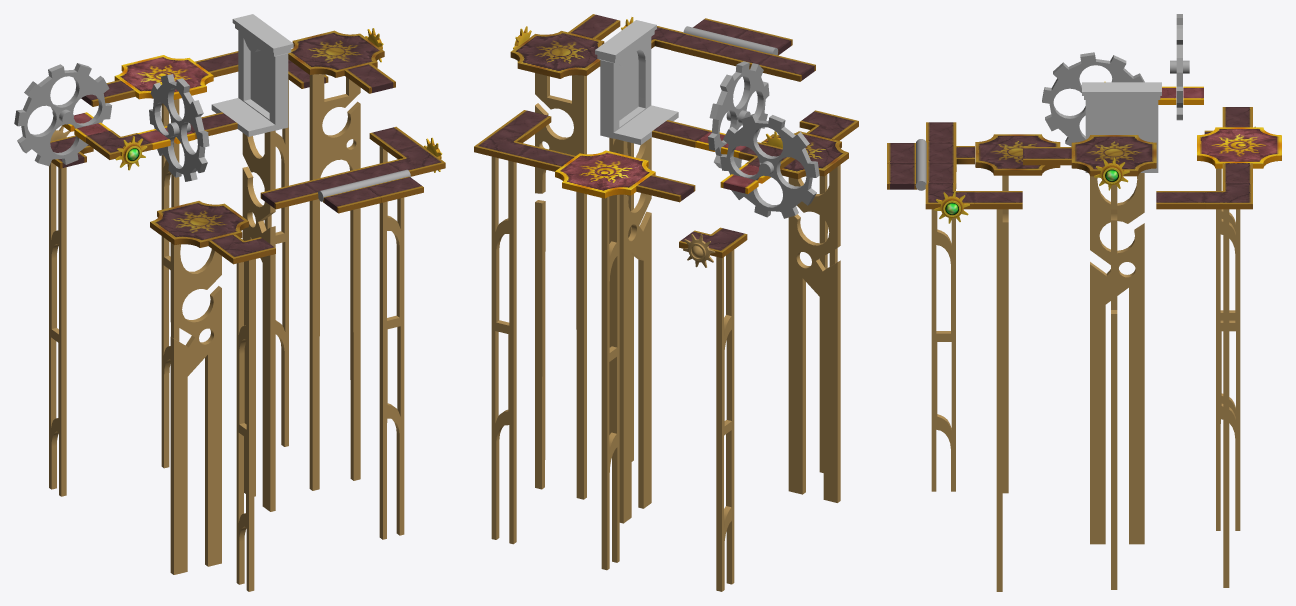
The model's file is Level_3.fbx.
3 renders of one model, left to right at view 1: azimuth 30°, elevation 25°; view 2: azimuth 150°, elevation 25°; view 3: azimuth 270°, elevation 25°, orthographic. The views are drawn at different scales.
Parts seen in each view (by area): view 1: Stand_03, Stand_01, pCylinder15 (×2), Stand_02, pCube40, pCube17, pCube30, polySurface2, pCube31, pCube46, pCube25, pCube39 (+17 smaller); view 2: Stand_03, Stand_01, Stand_02, pCylinder15 (×2), pCube39, pCube31, pCube30, polySurface2, pCube26, pCube25, pCube46, pCube40 (+19 smaller); view 3: Stand_02, polySurface2, pCube31, pCube17, pCylinder15 (×2), pCube26, Stand_01, pCube25, pCube40, pCube39, pCube46, Stand_03 (+14 smaller).
Boxes of the visible parts, bbox=[...] form: Stand_03: bbox=[170, 243, 221, 574]; Stand_01: bbox=[309, 74, 360, 490]; pCylinder15 (×2): bbox=[14, 63, 209, 181]; Stand_02: bbox=[242, 130, 275, 511]; pCube40: bbox=[379, 145, 404, 539]; pCube17: bbox=[236, 259, 254, 591]; pCube30: bbox=[49, 162, 66, 496]; polySurface2: bbox=[232, 14, 293, 130]; pCube31: bbox=[161, 99, 179, 468]; pCube46: bbox=[150, 201, 248, 247]; pCube25: bbox=[288, 30, 384, 77]; pCube39: bbox=[264, 79, 288, 446]; Stand_03: bbox=[788, 165, 840, 502]; Stand_01: bbox=[535, 73, 586, 499]; Stand_02: bbox=[618, 137, 651, 523]; pCylinder15 (×2): bbox=[708, 61, 819, 218]; pCube39: bbox=[491, 156, 516, 544]; pCube31: bbox=[601, 194, 619, 570]; pCube30: bbox=[716, 250, 734, 591]; polySurface2: bbox=[595, 20, 656, 138]; pCube26: bbox=[555, 150, 655, 198]; pCube25: bbox=[510, 31, 604, 78]; pCube46: bbox=[761, 131, 848, 179]; pCube40: bbox=[609, 138, 633, 461]; Stand_02: bbox=[1090, 173, 1144, 544]; polySurface2: bbox=[1082, 82, 1161, 172]; pCube31: bbox=[1216, 168, 1240, 530]; pCube17: bbox=[931, 209, 955, 491]; pCylinder15 (×2): bbox=[1042, 14, 1189, 146]; pCube26: bbox=[1197, 127, 1281, 168]; Stand_01: bbox=[1111, 184, 1117, 589]; pCube25: bbox=[1071, 135, 1156, 176]; pCube40: bbox=[996, 209, 1002, 591]; pCube39: bbox=[1223, 209, 1229, 587]; pCube46: bbox=[975, 134, 1060, 175]; Stand_03: bbox=[1002, 175, 1008, 493].
Bounding box in the file's own units: 30.99 × 42.58 × 32.55.
